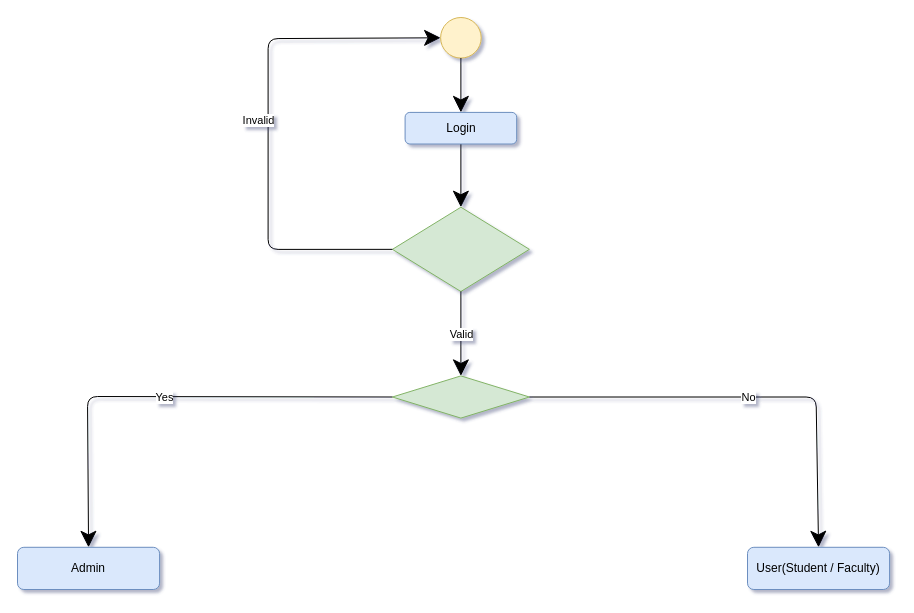
Image size: 914x613. Some labels were removed from this diagram. Here are the shapes that lost their labels. From the top down, the centre of each, then its label:
(460,249): Authentication
(460,396): isAdmin
